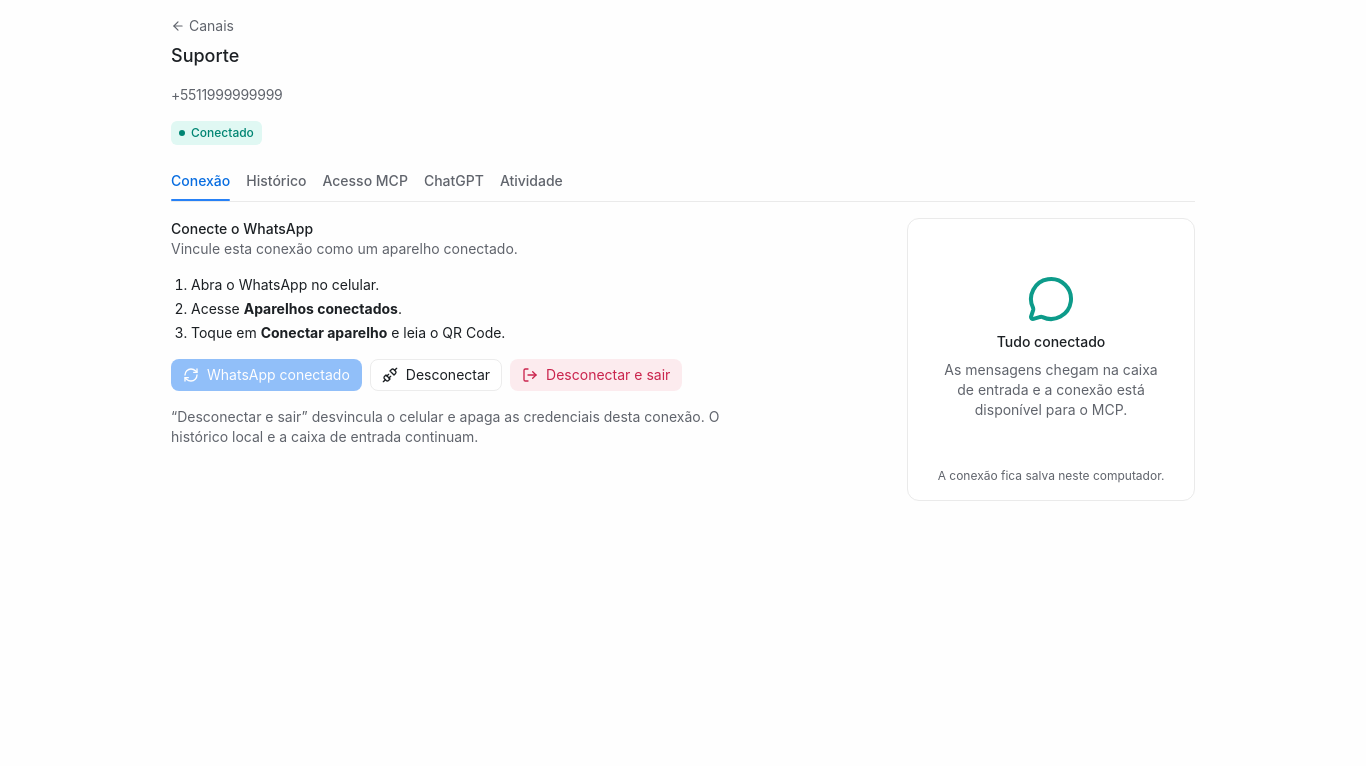
it: MCP access tokens › hides a fresh token on request and shows creation errors
Step 1. Click the tab "Acesso MCP" → click(365, 181), box [322,161,408,201]
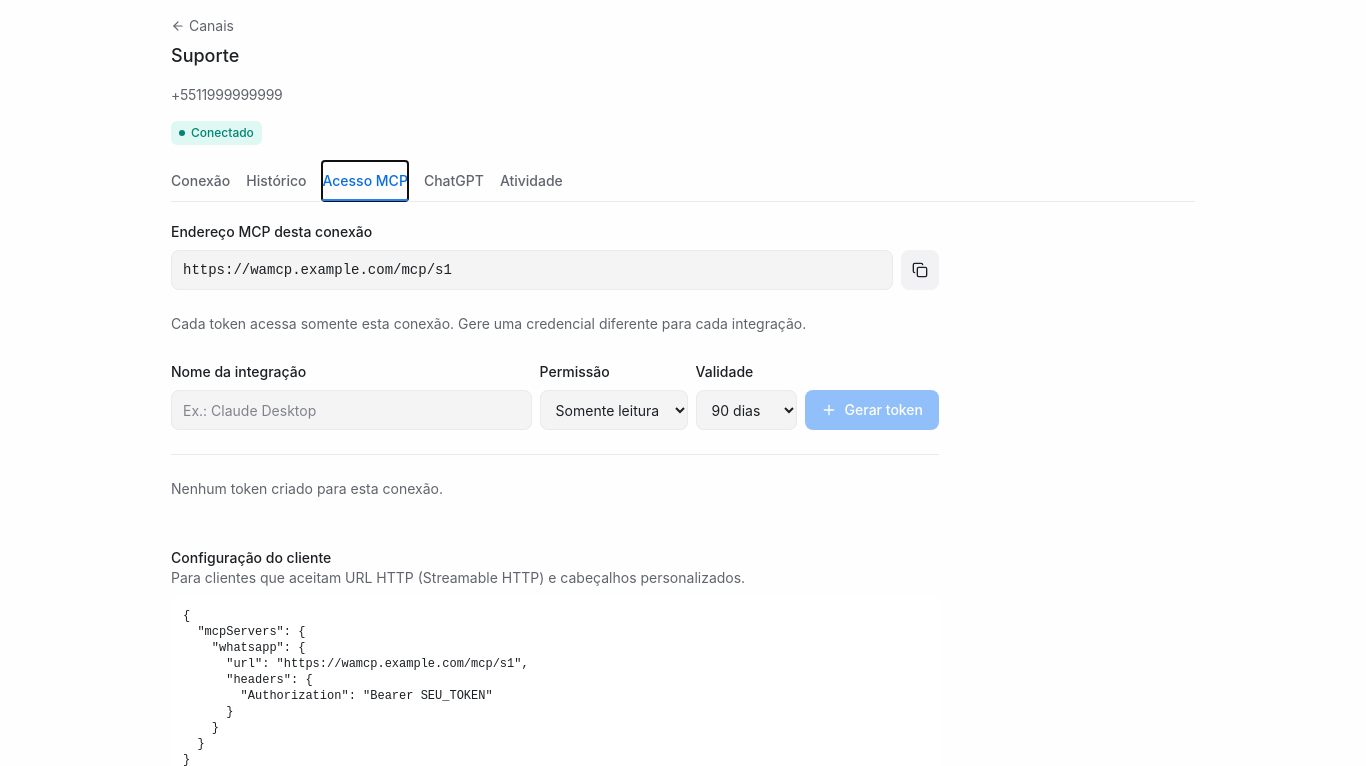
Expected: the list item "Nenhum token criado para esta conexão." is shown, [171,480,443,497]
Step 2. Type "A" into the field labelled "Nome da integração" → (351, 410), box [171,390,532,430]
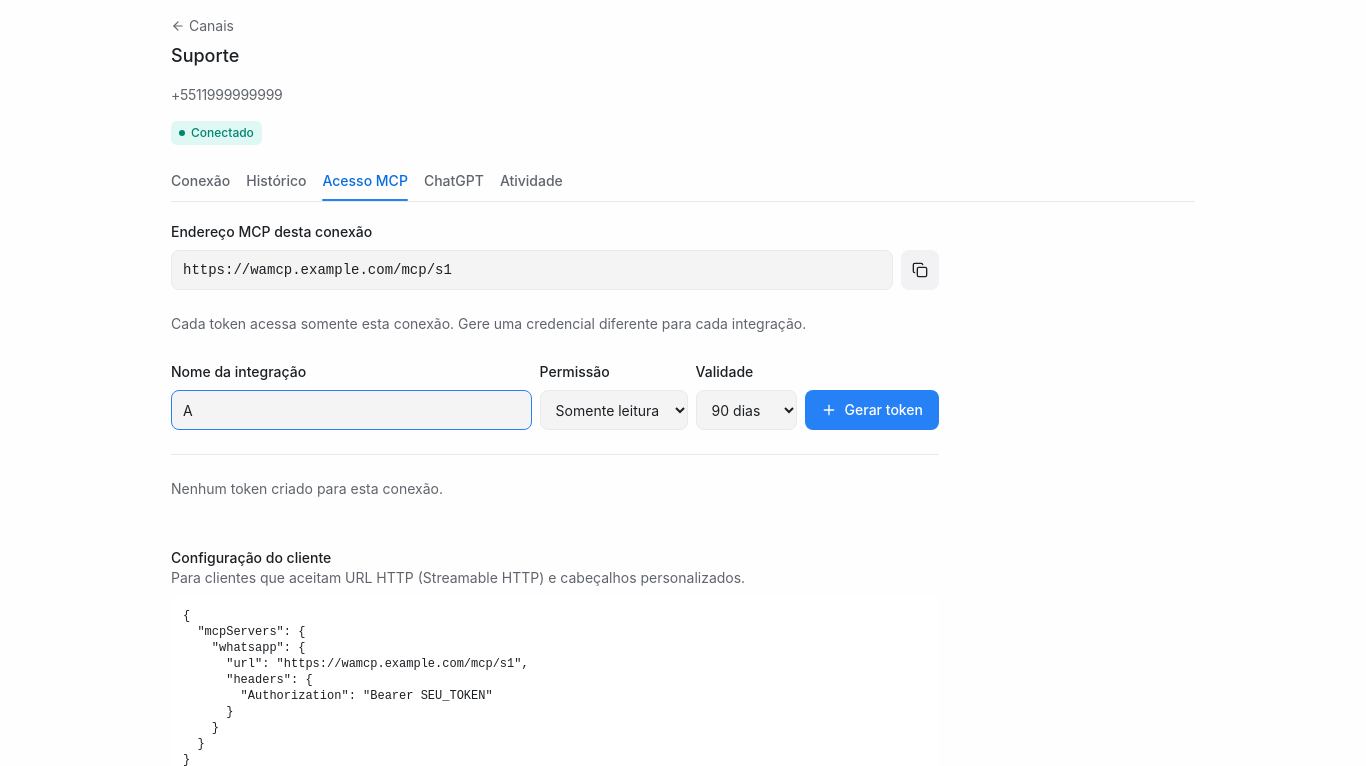
Step 3. Click the button "Gerar token" → click(872, 410), box [805,390,939,430]
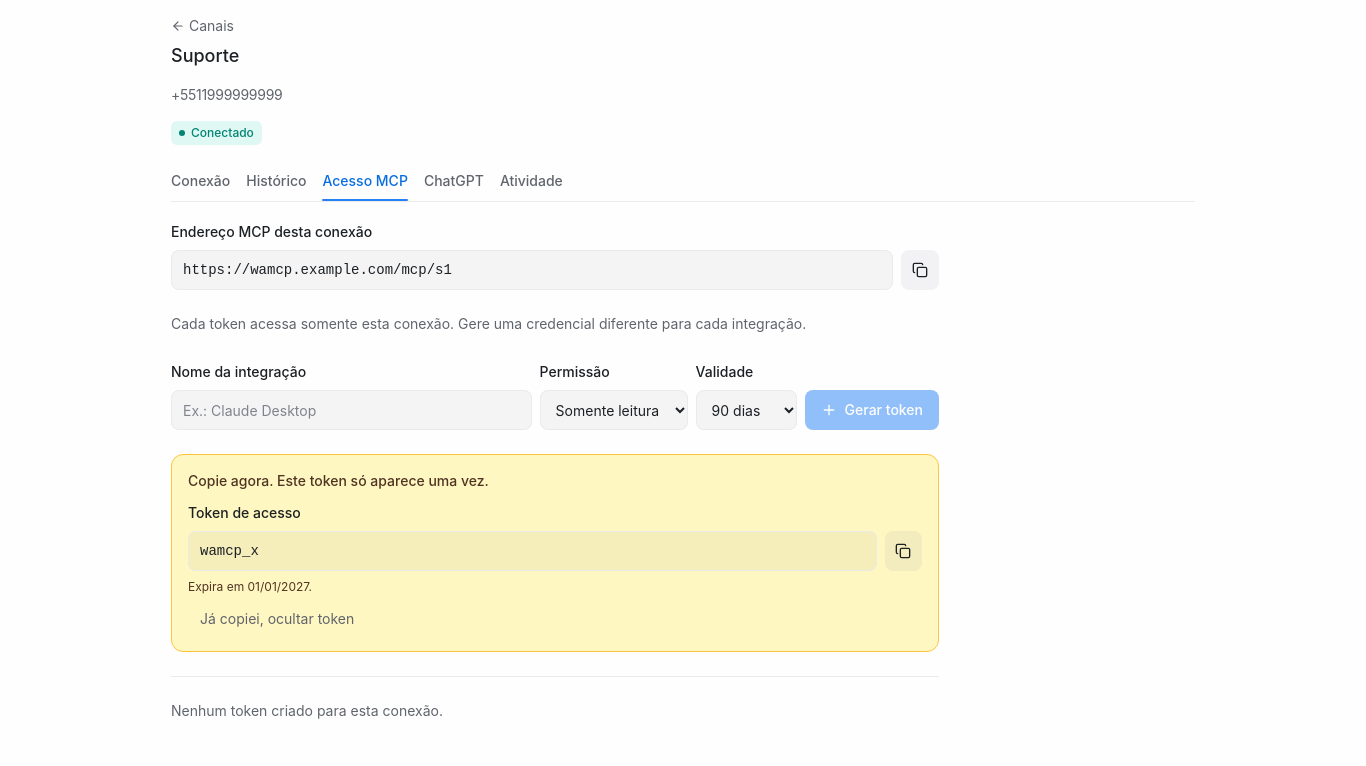
Step 4. Click the button "Já copiei, ocultar token" → click(277, 619), box [188,603,366,635]
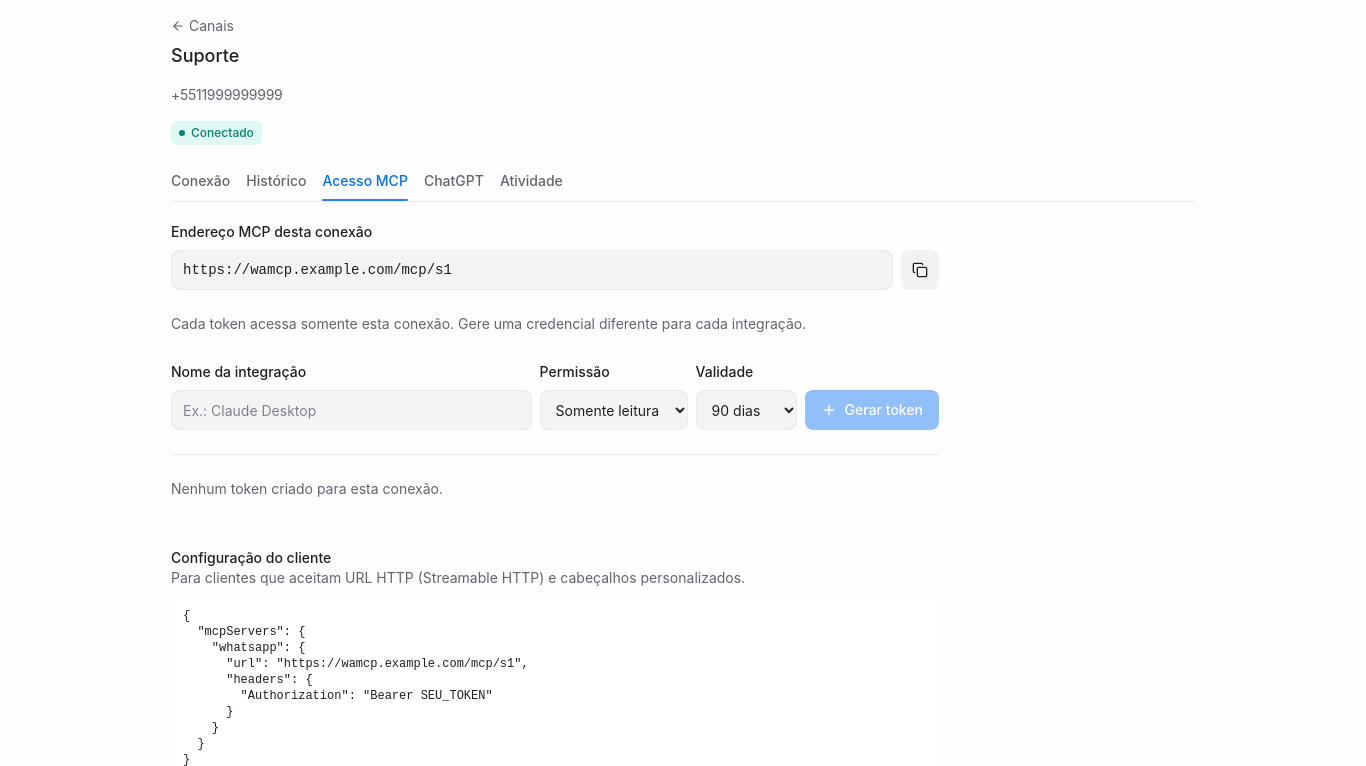
Expected: the text labelled "Token de acesso" is gone
Step 5. Type "B" into the field labelled "Nome da integração" → (351, 410), box [171,390,532,430]
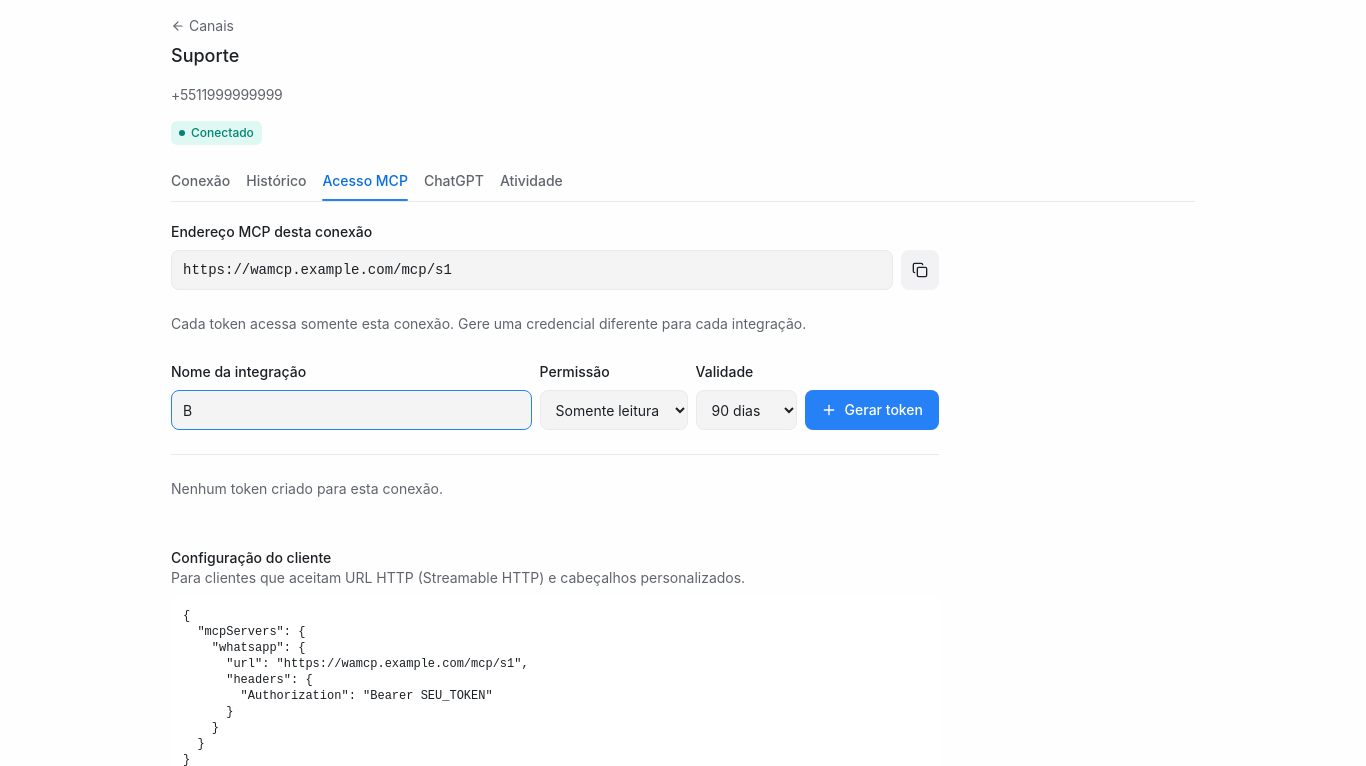
Step 6. Click the button "Gerar token" → click(872, 410), box [805,390,939,430]
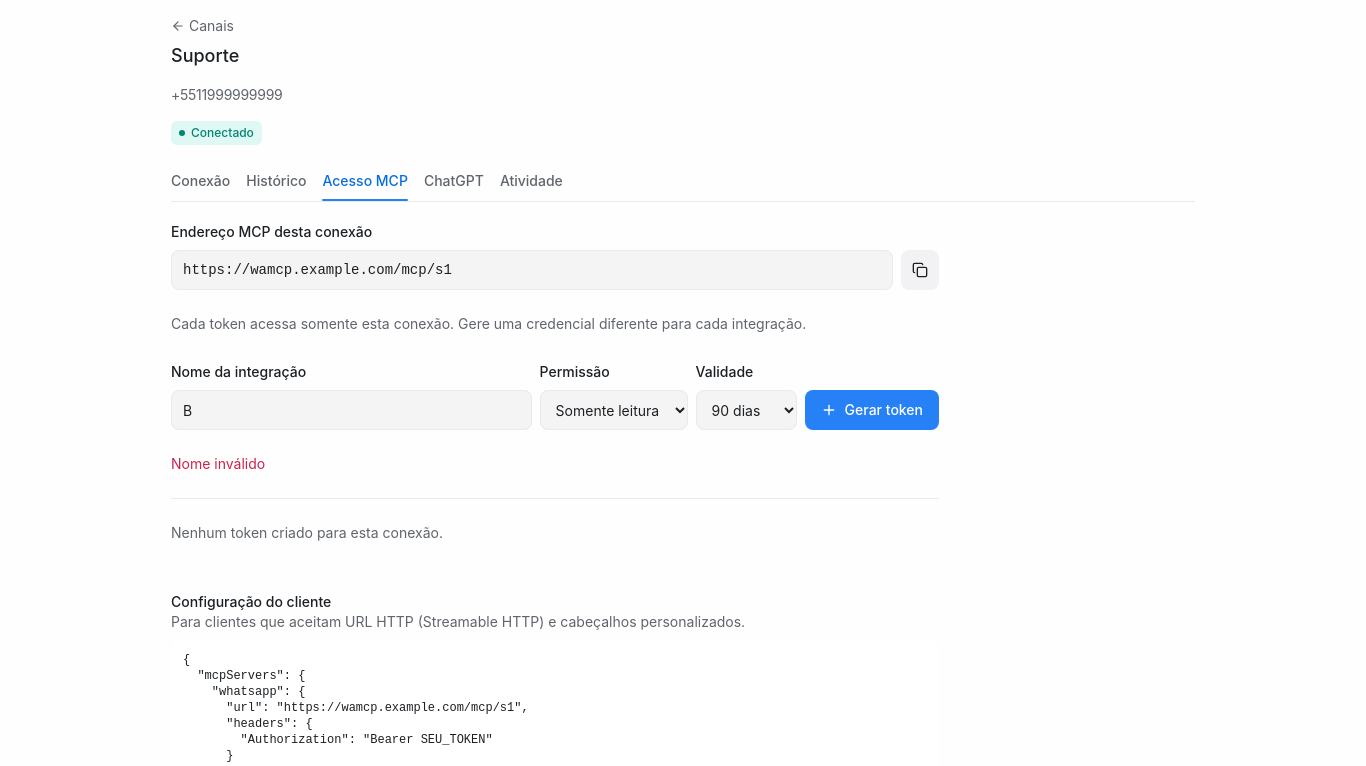
Expected: the message reads "Nome inválido", [171,455,265,472]
